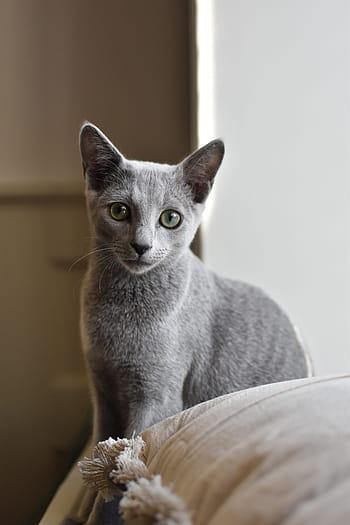rblue: (73, 116, 230, 285)
